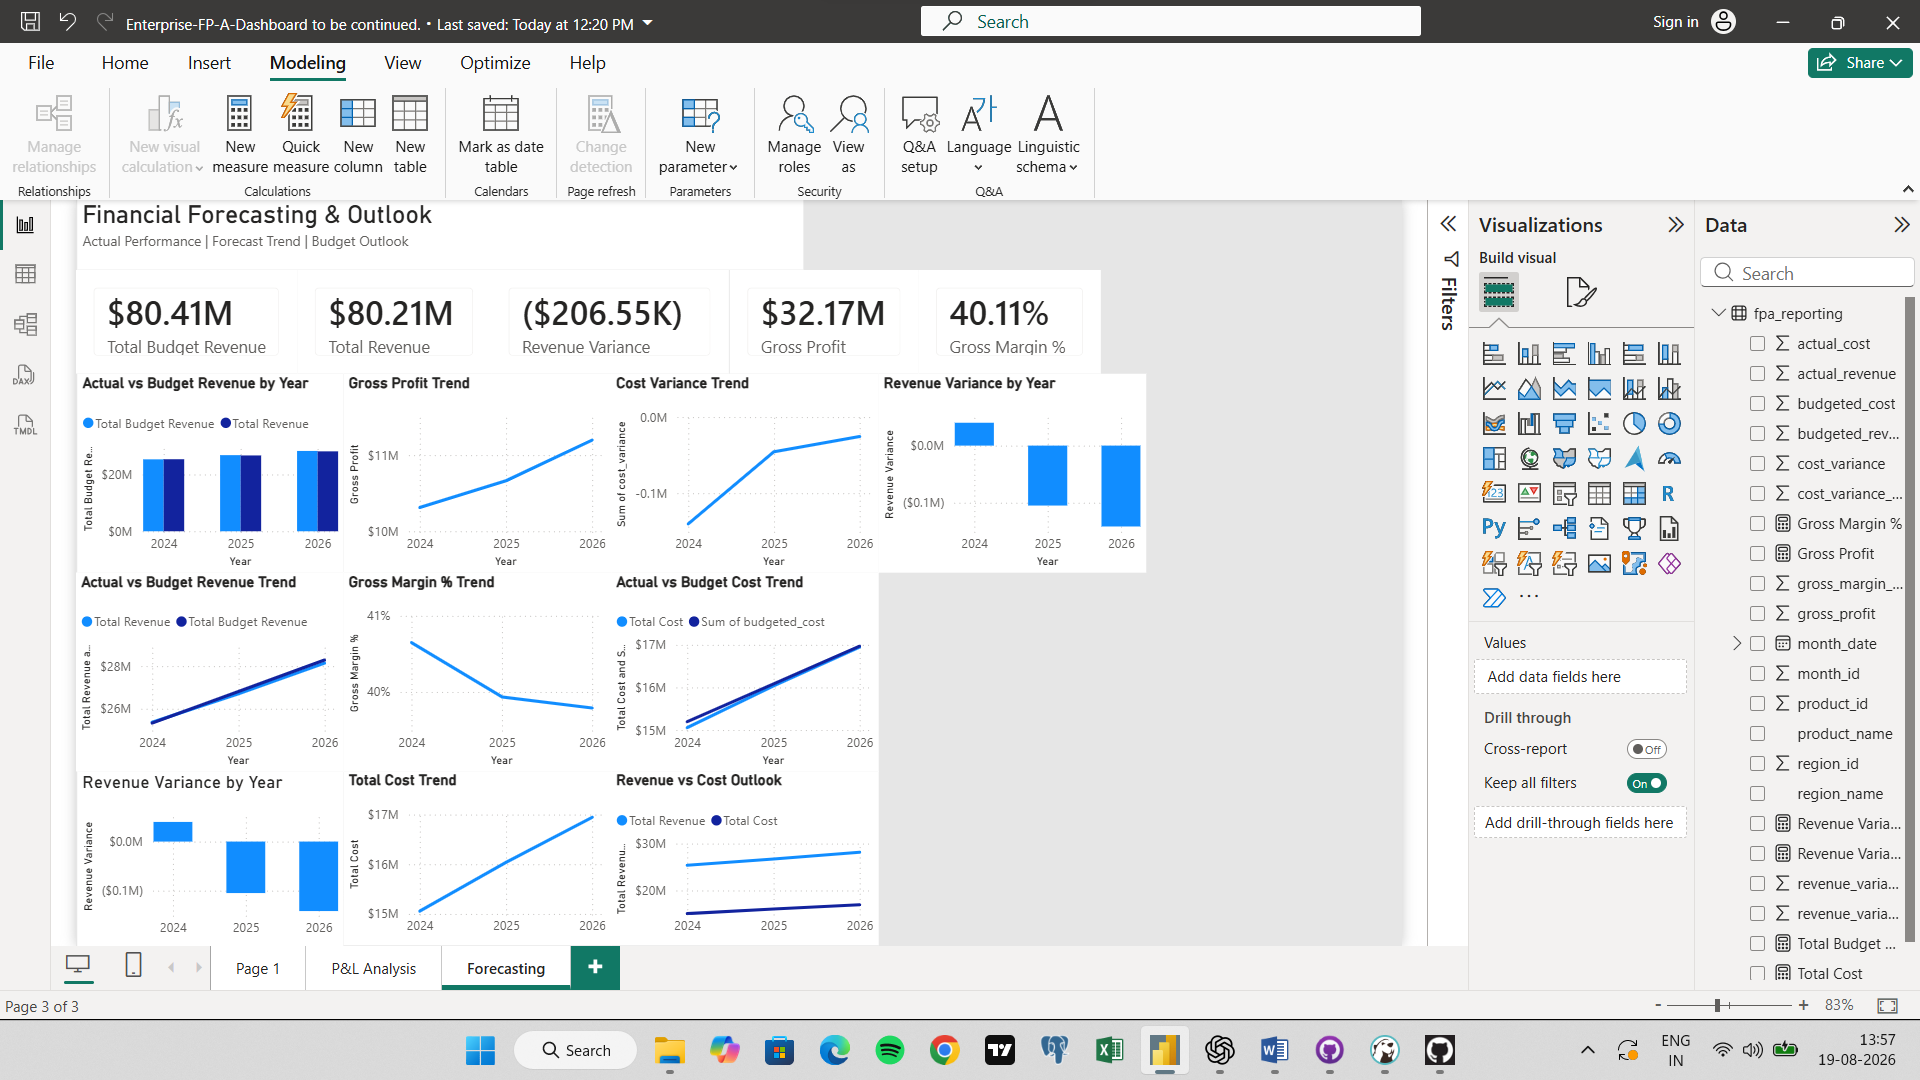

The page's visual inventory and layout, read from the dashboard file:
{"tool":"powerbi","page":{"name":"Forecasting","canvas":[1280,720],"ordinal":2},"visuals":[{"type":"textbox","title":"Financial Forecasting & Outlook","box":[1.2,0,700.9,67.6],"z":0},{"type":"cardVisual","fields":{"Data":["fpa_reporting.Total Budget Revenue"]},"box":[0,67.3,214,100.3],"z":1000},{"type":"cardVisual","fields":{"Data":["fpa_reporting.Total Revenue"]},"box":[214,67.3,187.1,100.3],"z":2000},{"type":"cardVisual","fields":{"Data":["fpa_reporting.Revenue Variance"]},"box":[401.1,67.3,229.9,100.3],"z":3000},{"type":"cardVisual","fields":{"Data":["fpa_reporting.Gross Profit"]},"box":[631,67.3,182.2,100.3],"z":4000},{"type":"cardVisual","fields":{"Data":["fpa_reporting.Gross Margin %"]},"box":[813.2,67.3,176.1,100.3],"z":5000},{"type":"clusteredColumnChart","title":"Actual vs Budget Revenue by Year","fields":{"Category":["fpa_reporting.month_date.Variation.Date Hierarchy.Year","fpa_reporting.month_date.Variation.Date Hierarchy.Quarter","fpa_reporting.month_date.Variation.Date Hierarchy.Month","fpa_reporting.month_date.Variation.Date Hierarchy.Day"],"Y":["fpa_reporting.Total Budget Revenue","fpa_reporting.Total Revenue"]},"box":[1.2,167.7,257,191.8],"z":6000},{"type":"lineChart","title":"Actual vs Budget Revenue Trend","fields":{"Category":["fpa_reporting.month_date.Variation.Date Hierarchy.Year","fpa_reporting.month_date.Variation.Date Hierarchy.Quarter","fpa_reporting.month_date.Variation.Date Hierarchy.Month","fpa_reporting.month_date.Variation.Date Hierarchy.Day"],"Y":["fpa_reporting.Total Revenue","fpa_reporting.Total Budget Revenue"]},"box":[0,359.5,258.2,191.8],"z":7000},{"type":"clusteredColumnChart","fields":{"Category":["fpa_reporting.month_date.Variation.Date Hierarchy.Year","fpa_reporting.month_date.Variation.Date Hierarchy.Quarter","fpa_reporting.month_date.Variation.Date Hierarchy.Month","fpa_reporting.month_date.Variation.Date Hierarchy.Day"],"Y":["fpa_reporting.Revenue Variance"]},"box":[1.2,551.1,257,168.9],"z":8000},{"type":"lineChart","title":"Gross Profit Trend","fields":{"Category":["fpa_reporting.month_date.Variation.Date Hierarchy.Year","fpa_reporting.month_date.Variation.Date Hierarchy.Quarter","fpa_reporting.month_date.Variation.Date Hierarchy.Month","fpa_reporting.month_date.Variation.Date Hierarchy.Day"],"Y":["fpa_reporting.Gross Profit"]},"box":[258.2,167.7,258.2,191.8],"z":9000},{"type":"lineChart","title":"Gross Margin % Trend","fields":{"Category":["fpa_reporting.month_date.Variation.Date Hierarchy.Year","fpa_reporting.month_date.Variation.Date Hierarchy.Quarter","fpa_reporting.month_date.Variation.Date Hierarchy.Month","fpa_reporting.month_date.Variation.Date Hierarchy.Day"],"Y":["fpa_reporting.Gross Margin %"]},"box":[258.2,359.5,258.2,191.8],"z":10000},{"type":"lineChart","title":"Total Cost Trend","fields":{"Category":["fpa_reporting.month_date.Variation.Date Hierarchy.Year","fpa_reporting.month_date.Variation.Date Hierarchy.Quarter","fpa_reporting.month_date.Variation.Date Hierarchy.Month","fpa_reporting.month_date.Variation.Date Hierarchy.Day"],"Y":["fpa_reporting.Total Cost"]},"box":[258.2,551.3,258.2,167.7],"z":11000},{"type":"lineChart","title":"Cost Variance Trend","fields":{"Category":["fpa_reporting.month_date.Variation.Date Hierarchy.Year","fpa_reporting.month_date.Variation.Date Hierarchy.Quarter","fpa_reporting.month_date.Variation.Date Hierarchy.Month","fpa_reporting.month_date.Variation.Date Hierarchy.Day"],"Y":["Sum(fpa_reporting.cost_variance)"]},"box":[516.4,167.7,258.2,191.8],"z":12000},{"type":"lineChart","title":"Actual vs Budget Cost Trend","fields":{"Category":["fpa_reporting.month_date.Variation.Date Hierarchy.Year","fpa_reporting.month_date.Variation.Date Hierarchy.Quarter","fpa_reporting.month_date.Variation.Date Hierarchy.Month","fpa_reporting.month_date.Variation.Date Hierarchy.Day"],"Y":["fpa_reporting.Total Cost","Sum(fpa_reporting.budgeted_cost)"]},"box":[516.4,359.5,258.2,191.8],"z":13000},{"type":"lineChart","title":"Revenue vs Cost Outlook","fields":{"Category":["fpa_reporting.month_date.Variation.Date Hierarchy.Year","fpa_reporting.month_date.Variation.Date Hierarchy.Quarter","fpa_reporting.month_date.Variation.Date Hierarchy.Month","fpa_reporting.month_date.Variation.Date Hierarchy.Day"],"Y":["fpa_reporting.Total Revenue","fpa_reporting.Total Cost"]},"box":[516.4,551.3,258.2,167.7],"z":14000},{"type":"clusteredColumnChart","title":"Revenue Variance by Year","fields":{"Category":["fpa_reporting.month_date.Variation.Date Hierarchy.Year","fpa_reporting.month_date.Variation.Date Hierarchy.Quarter","fpa_reporting.month_date.Variation.Date Hierarchy.Month","fpa_reporting.month_date.Variation.Date Hierarchy.Day"],"Y":["fpa_reporting.Revenue Variance"]},"box":[774.5,167.7,258.2,191.8],"z":15000}]}

Visuals, with their boxes on the page's 1280x720 design canvas (x1, y1, x2, y2). These are canvas units, not pixel positions in the 1920x1080 screenshot, which may show the page scaled, cropped or inside an application window:
"Financial Forecasting & Outlook" textbox: select_region(1, 0, 702, 68)
cardVisual - fpa_reporting.Total Budget Revenue: select_region(0, 67, 214, 168)
cardVisual - fpa_reporting.Total Revenue: select_region(214, 67, 401, 168)
cardVisual - fpa_reporting.Revenue Variance: select_region(401, 67, 631, 168)
cardVisual - fpa_reporting.Gross Profit: select_region(631, 67, 813, 168)
cardVisual - fpa_reporting.Gross Margin %: select_region(813, 67, 989, 168)
"Actual vs Budget Revenue by Year" clusteredColumnChart: select_region(1, 168, 258, 360)
"Actual vs Budget Revenue Trend" lineChart: select_region(0, 360, 258, 551)
clusteredColumnChart - fpa_reporting.month_date.Variation.Date Hierarchy.Year x fpa_reporting.month_date.Variation.Date Hierarchy.Quarter: select_region(1, 551, 258, 720)
"Gross Profit Trend" lineChart: select_region(258, 168, 516, 360)
"Gross Margin % Trend" lineChart: select_region(258, 360, 516, 551)
"Total Cost Trend" lineChart: select_region(258, 551, 516, 719)
"Cost Variance Trend" lineChart: select_region(516, 168, 775, 360)
"Actual vs Budget Cost Trend" lineChart: select_region(516, 360, 775, 551)
"Revenue vs Cost Outlook" lineChart: select_region(516, 551, 775, 719)
"Revenue Variance by Year" clusteredColumnChart: select_region(774, 168, 1033, 360)
